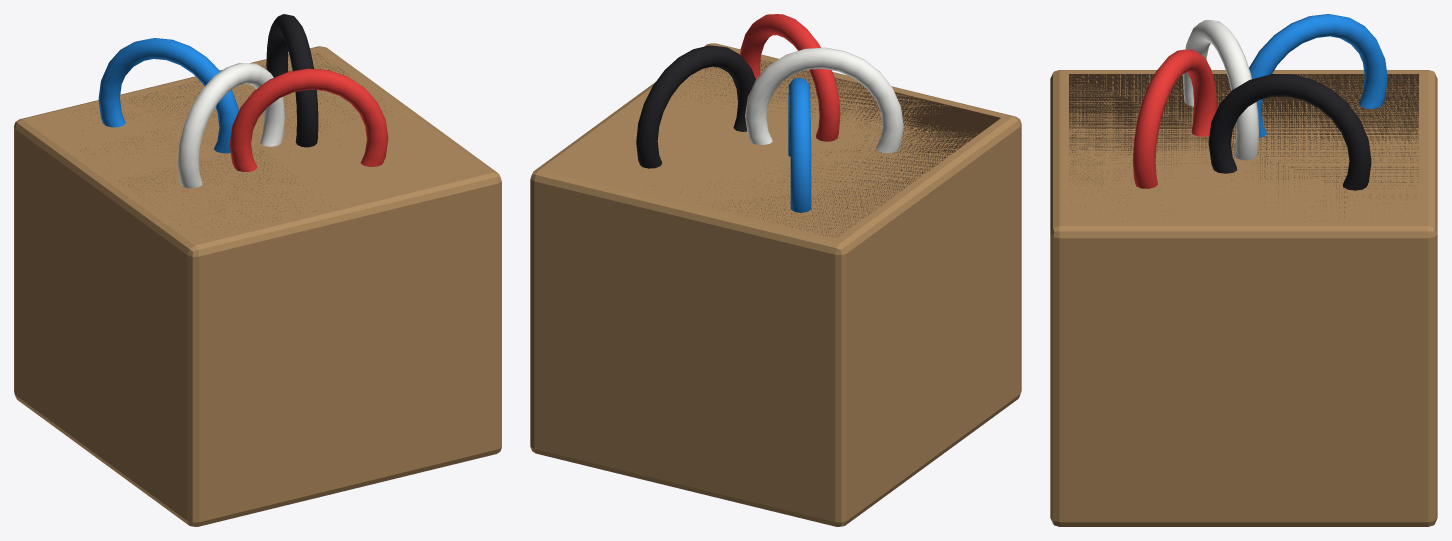
The model's file is small_box.fbx.
3 renders of one model, left to right at view 1: azimuth 30°, elevation 25°; view 2: azimuth 150°, elevation 25°; view 3: azimuth 270°, elevation 25°, orthographic. The views are drawn at different scales.
Visible parts, largest first — view 1: Box of Cables; view 2: Box of Cables; view 3: Box of Cables.
Boxes of the visible parts, x1,y1,x2,y2 form: Box of Cables: (14,14,501,526); Box of Cables: (530,14,1021,526); Box of Cables: (1050,14,1437,526).
Bounding box in the file's own units: 0.84 × 0.965 × 0.84.
